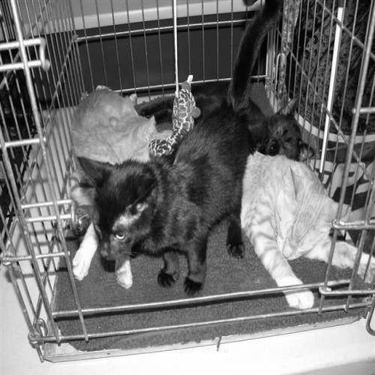cat: (74, 38, 284, 272), (237, 149, 349, 304)
